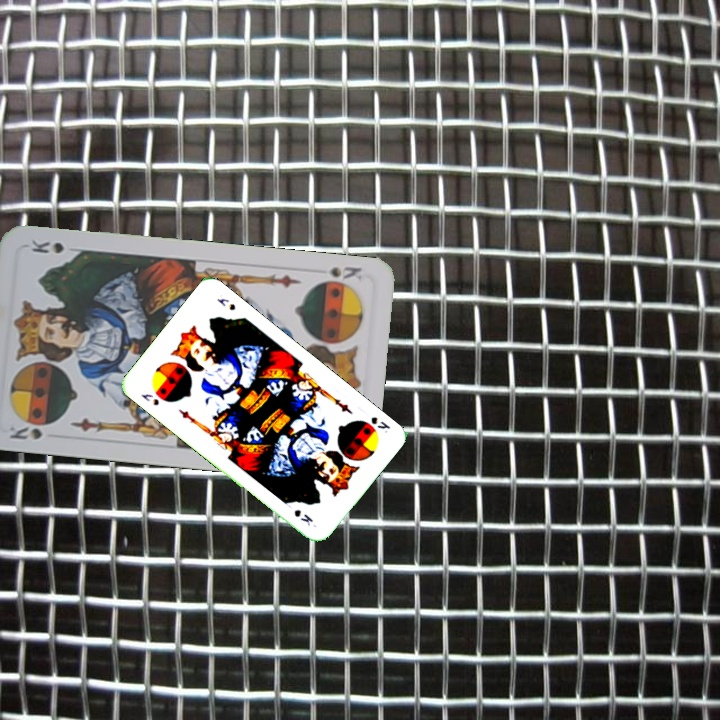SK: (312, 262, 365, 290), (3, 421, 45, 442), (367, 412, 393, 436), (137, 389, 162, 408)
